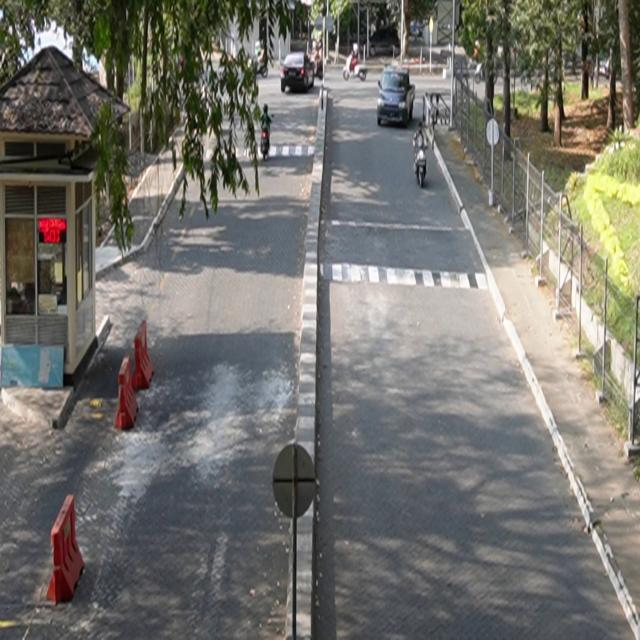car: (378, 67, 417, 128), (281, 53, 316, 94)
